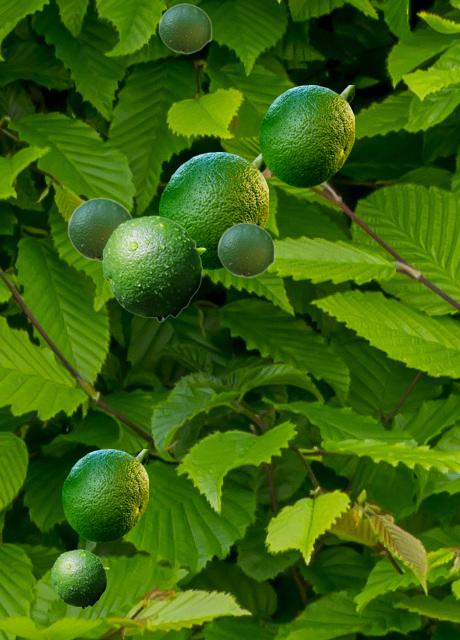dalandan: (159, 152, 267, 268), (102, 215, 205, 321), (259, 85, 353, 186), (62, 449, 147, 541), (67, 197, 132, 261), (51, 549, 108, 608), (217, 222, 274, 277), (158, 3, 211, 53)
